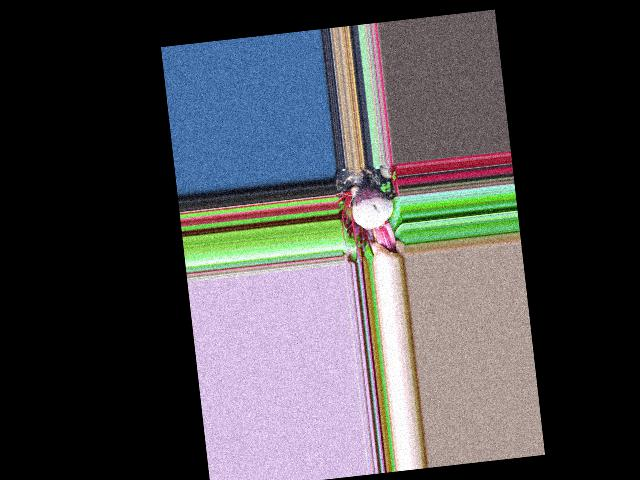beet: (347, 163, 398, 257)
